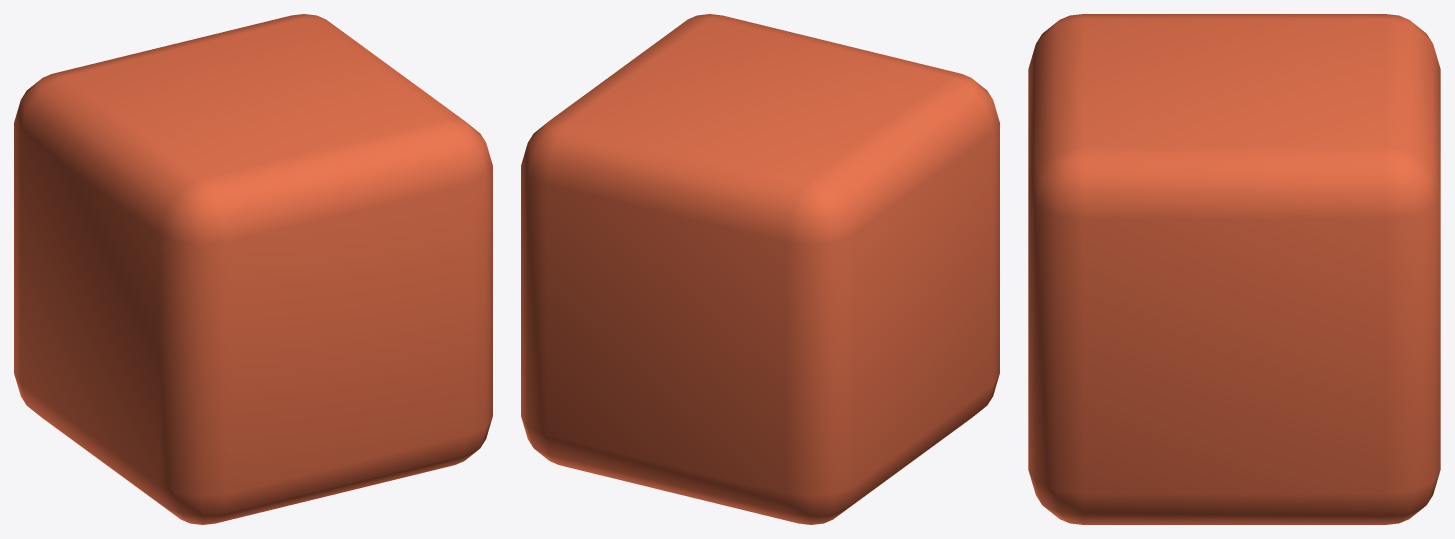
The picture shows the model from 3 angles, left to right: view 1: azimuth 30°, elevation 25°; view 2: azimuth 150°, elevation 25°; view 3: azimuth 270°, elevation 25°; orthographic projection. The views are drawn at different scales.
Parts seen in each view (by area): view 1: cube; view 2: cube; view 3: cube.
Boxes of the visible parts, left/top/right/bottom form: cube: left=14, top=14, right=492, bottom=524; cube: left=521, top=14, right=999, bottom=524; cube: left=1028, top=14, right=1440, bottom=524.
Bounding box in the file's own units: 0.3 × 0.3 × 0.3.
